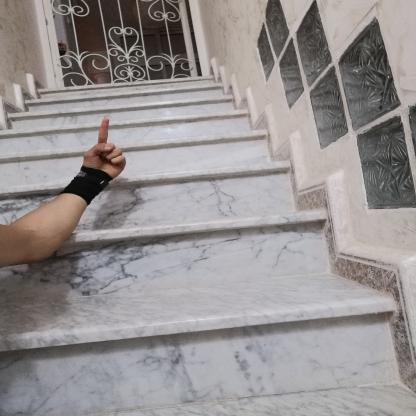BAA: (72, 112, 132, 188)
